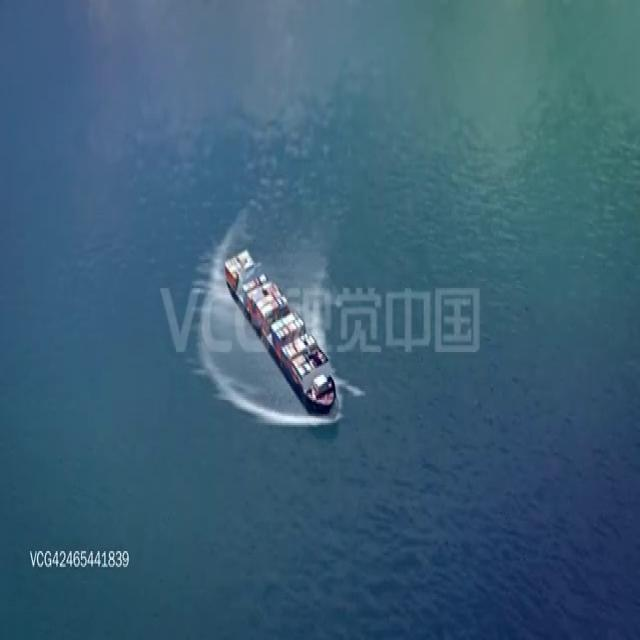cargoship: (225, 246, 336, 419)
